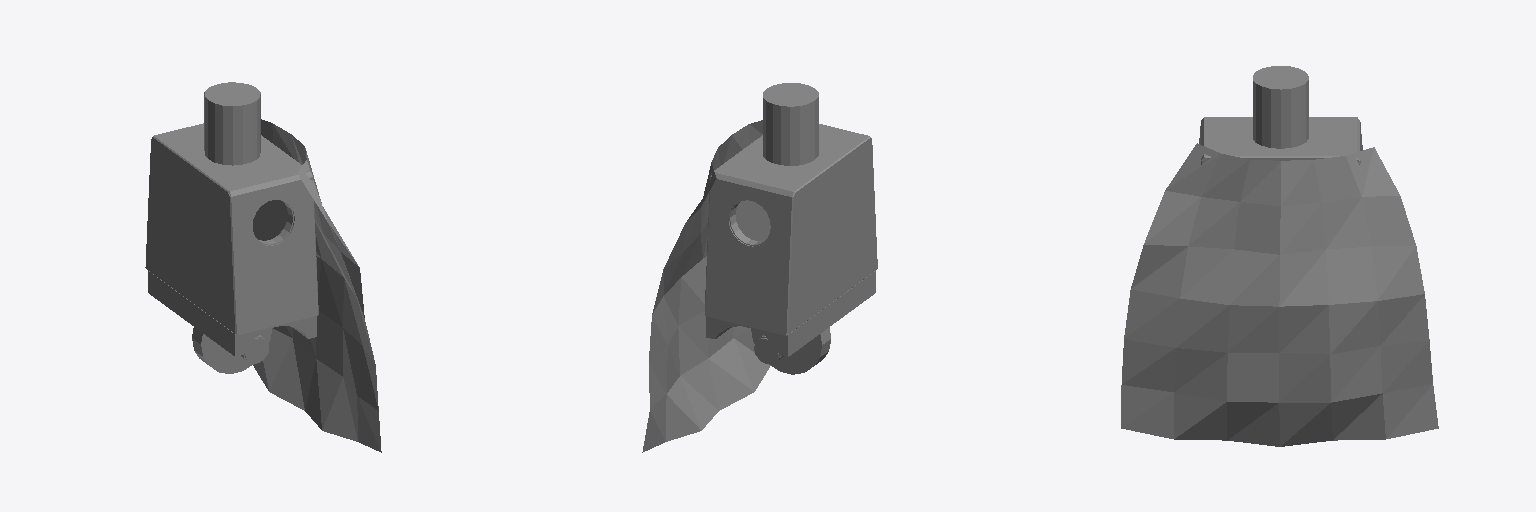
File: cuerpo.obj
3 views of the same model, side by side, from view 1: azimuth 30°, elevation 25°; view 2: azimuth 150°, elevation 25°; view 3: azimuth 270°, elevation 25° (orthographic).
Parts seen in each view (by area): view 1: Box03, Plane01, Box01; view 2: Box03, Plane01, Box01; view 3: Plane01, Box03.
Part boxes in pixels (x1,y1,x2,y2): Box03: (145,82,318,334); Plane01: (253,119,381,452); Box01: (148,271,316,373); Box03: (705,83,877,335); Plane01: (642,120,770,452); Box01: (706,271,875,374); Plane01: (1121,143,1438,446); Box03: (1199,66,1362,164).
Size of the model in its own units: 32.56 by 79.64 by 68.6.